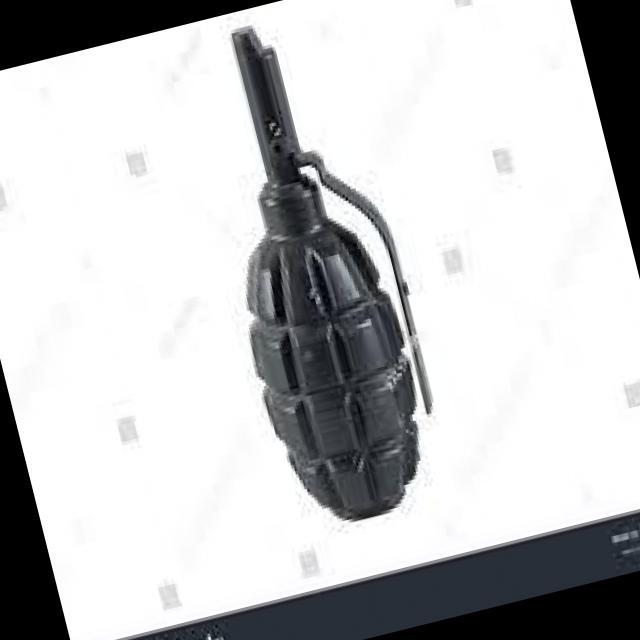grenade: (164, 0, 461, 546)
